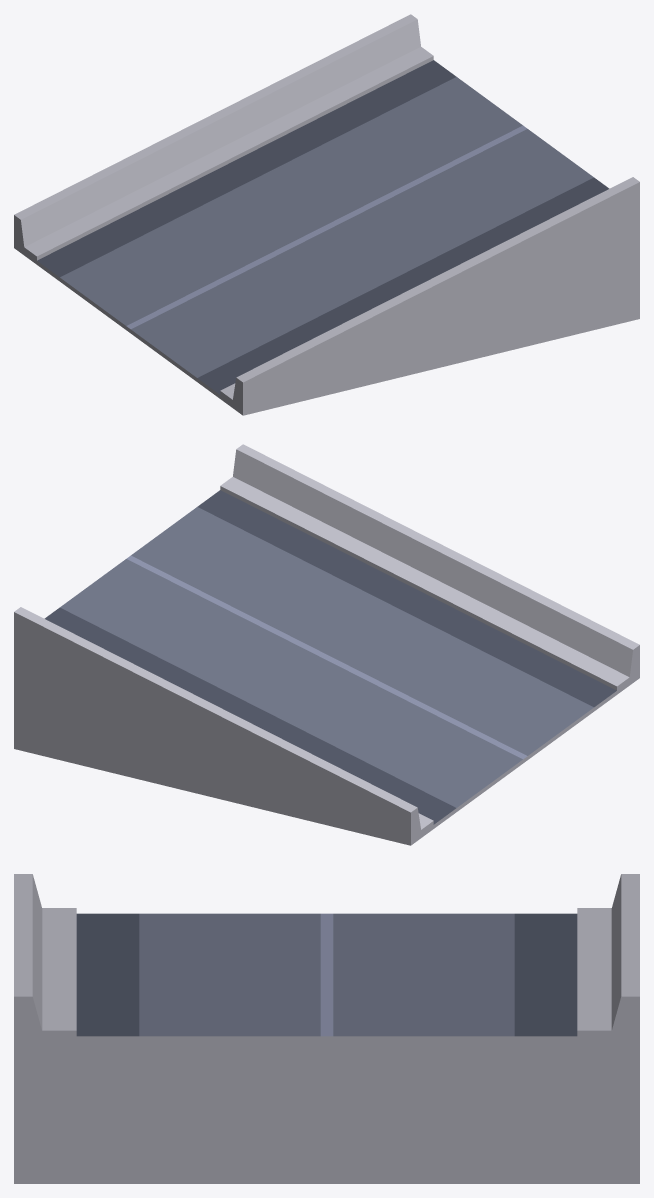
Rendered from road_slant.glb.
3 renders of one model, top to bottom at view 1: azimuth 30°, elevation 25°; view 2: azimuth 150°, elevation 25°; view 3: azimuth 270°, elevation 25°, orthographic. The views are drawn at different scales.
Visible parts, largest first — view 1: road_slant_c7e3de, road_slant_1089e4, road_slant_109070, road_slant_edc478, road_slant_5c273f; view 2: road_slant_c7e3de, road_slant_1089e4, road_slant_109070, road_slant_edc478, road_slant_5c273f; view 3: road_slant_1089e4, road_slant_c7e3de, road_slant_edc478, road_slant_109070, road_slant_5c273f.
Boxes of the visible parts, box(x1,y1,x2,y2) form: road_slant_c7e3de: box(60, 77, 593, 377); road_slant_1089e4: box(14, 47, 639, 415); road_slant_109070: box(14, 14, 639, 415); road_slant_edc478: box(37, 60, 609, 394); road_slant_5c273f: box(126, 125, 527, 329); road_slant_c7e3de: box(60, 507, 593, 807); road_slant_1089e4: box(14, 477, 639, 845); road_slant_109070: box(14, 444, 639, 845); road_slant_edc478: box(44, 490, 616, 824); road_slant_5c273f: box(126, 555, 527, 759); road_slant_1089e4: box(14, 908, 639, 1183); road_slant_c7e3de: box(139, 913, 514, 1036); road_slant_edc478: box(76, 913, 577, 1036); road_slant_109070: box(14, 874, 639, 1041); road_slant_5c273f: box(320, 913, 333, 1036).
Size of the model in its own units: 1 by 0.33 by 1.
